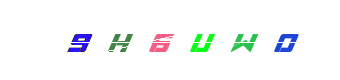6: (129, 0, 209, 80)
9: (73, 0, 153, 80)
H: (120, 0, 200, 80)
O: (182, 0, 262, 80)
U: (148, 0, 228, 80)
W: (151, 0, 231, 80)
